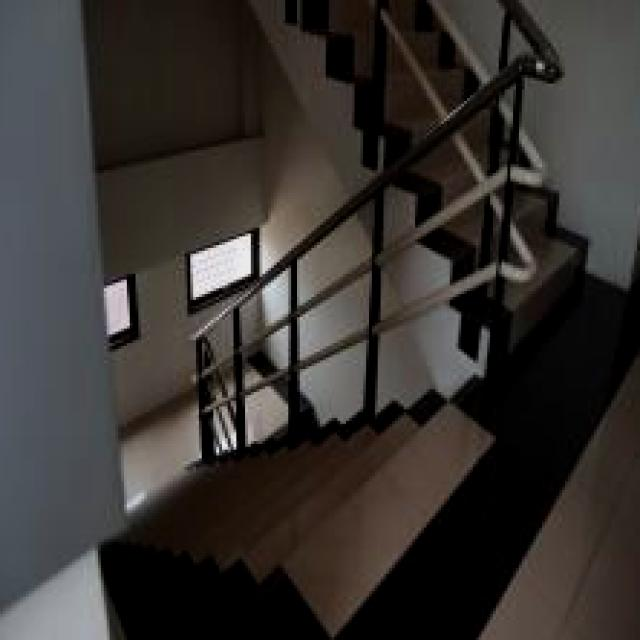downstair: (128, 425, 598, 640)
